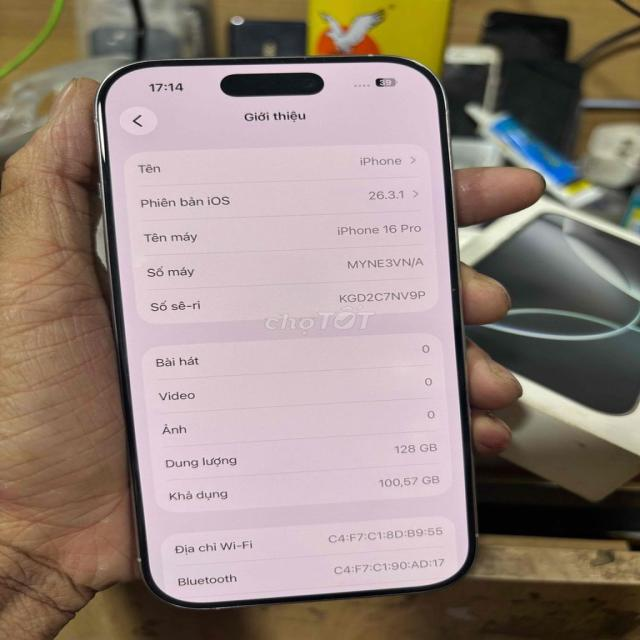gen_16: (96, 56, 475, 609)
